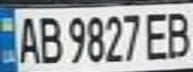2: (103, 10, 127, 64)
7: (121, 9, 145, 63)
8: (84, 11, 106, 64)
9: (63, 11, 87, 65)
A: (12, 11, 42, 65)
B: (163, 7, 193, 60), (36, 12, 63, 65)
E: (142, 8, 172, 61)
